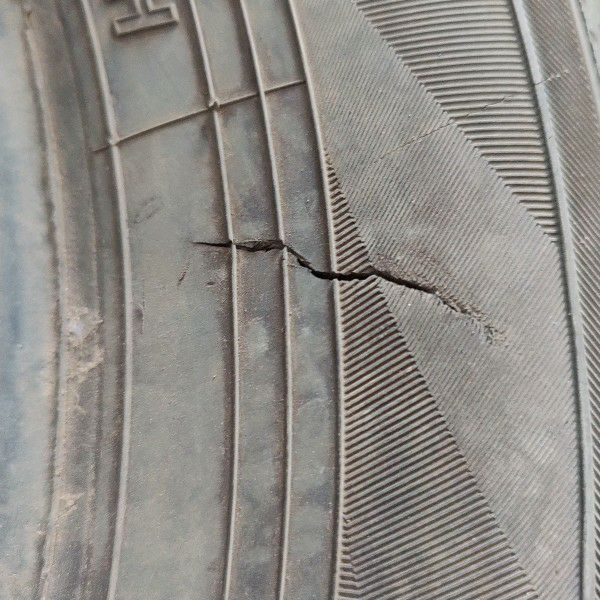cut: (185, 240, 495, 341)
